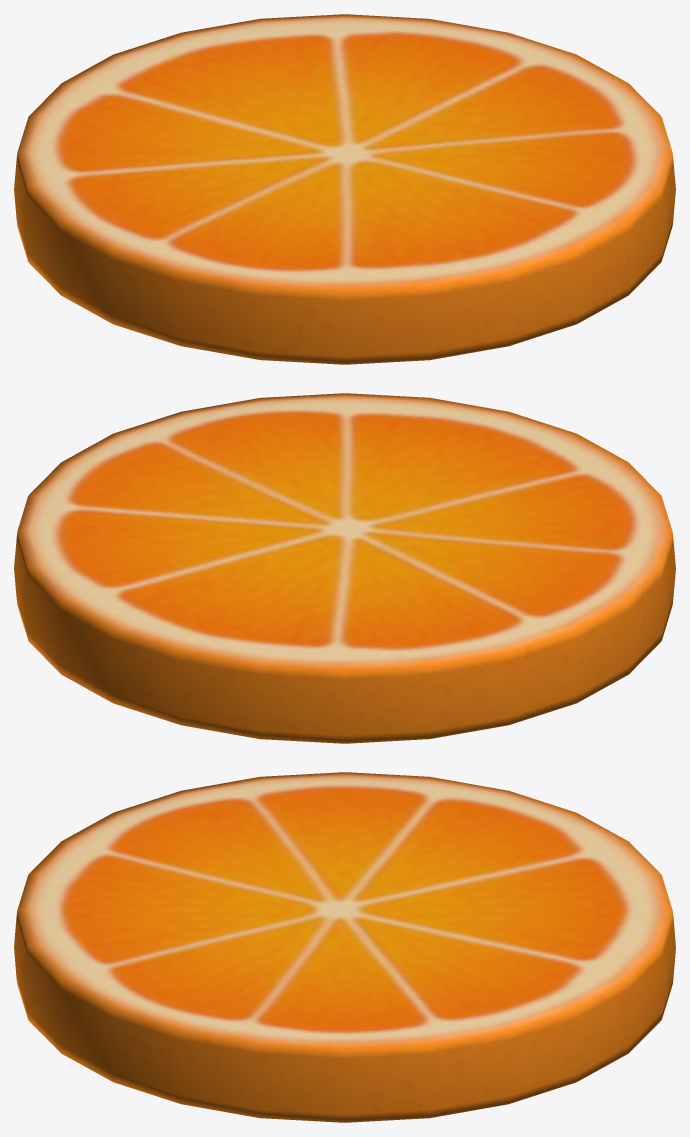
The model's file is orange-slice.glb.
The picture shows the model from 3 angles, top to bottom: view 1: azimuth 30°, elevation 25°; view 2: azimuth 150°, elevation 25°; view 3: azimuth 270°, elevation 25°; orthographic projection.
Bounding box in the file's own units: 1 × 0.1264 × 1.
1 material, 1 textured.
